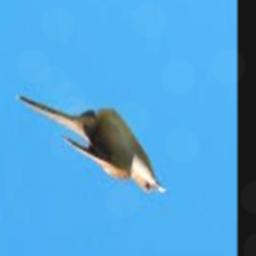Cuckoo: (18, 94, 167, 195)
